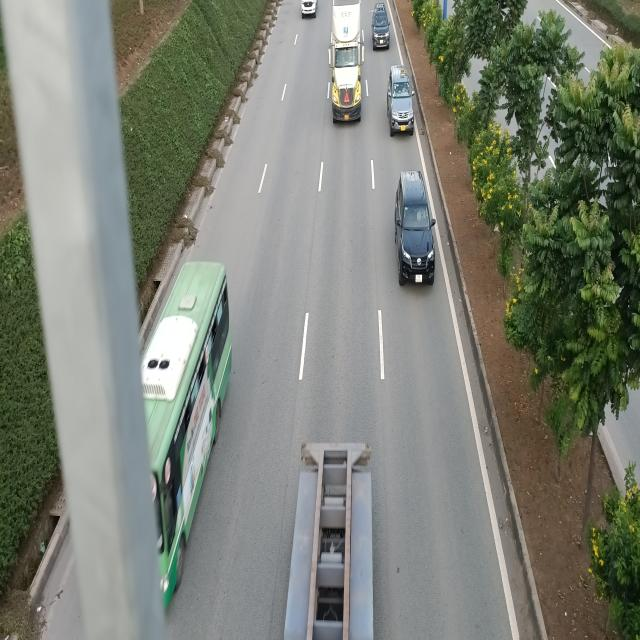car: (394, 171, 436, 287), (386, 66, 414, 136), (371, 1, 390, 49)
coach: (140, 259, 230, 638)
container: (280, 444, 374, 640), (330, 2, 366, 122)
